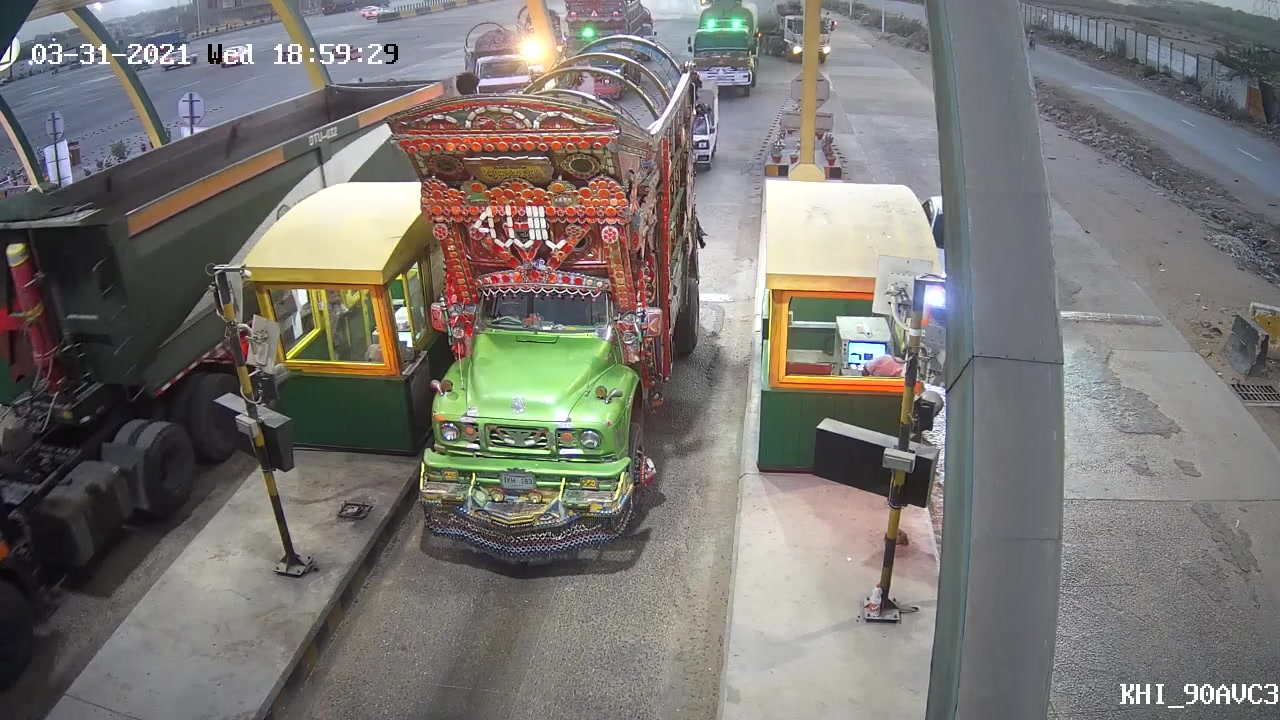F5: (403, 52, 714, 570)
